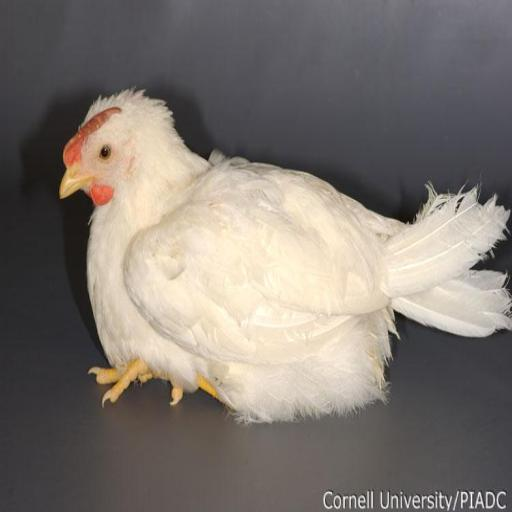healthy: (64, 105, 132, 210)
